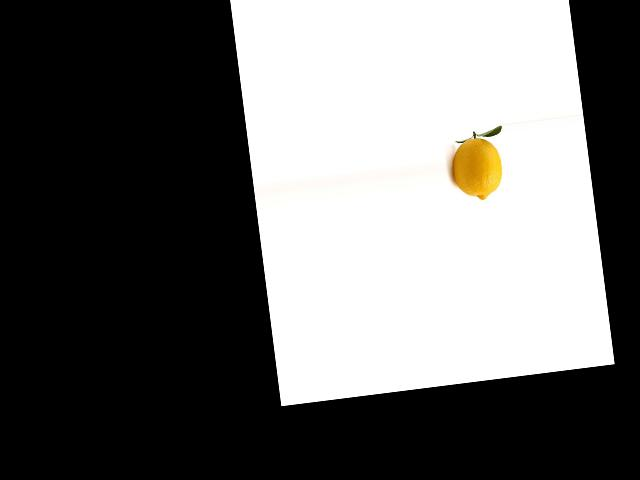lemon: (446, 133, 506, 207)
